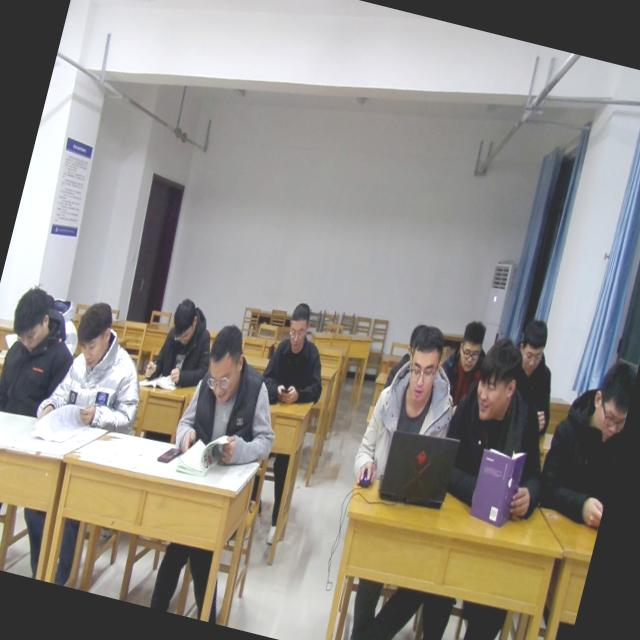down: (393, 316, 451, 414), (581, 348, 639, 444), (194, 317, 253, 408), (66, 292, 121, 374), (3, 278, 60, 357), (510, 310, 556, 378), (450, 312, 492, 376), (164, 292, 203, 354), (280, 296, 316, 358)
sit: (432, 324, 575, 528), (348, 315, 474, 506), (30, 287, 163, 451), (530, 346, 640, 537), (168, 318, 298, 479), (0, 278, 87, 430), (254, 292, 343, 413), (493, 314, 574, 441), (144, 290, 224, 392), (428, 313, 498, 429)
